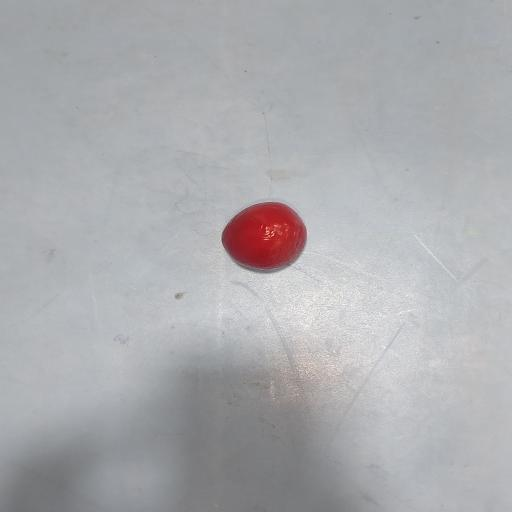spoiled: (222, 202, 306, 269)
